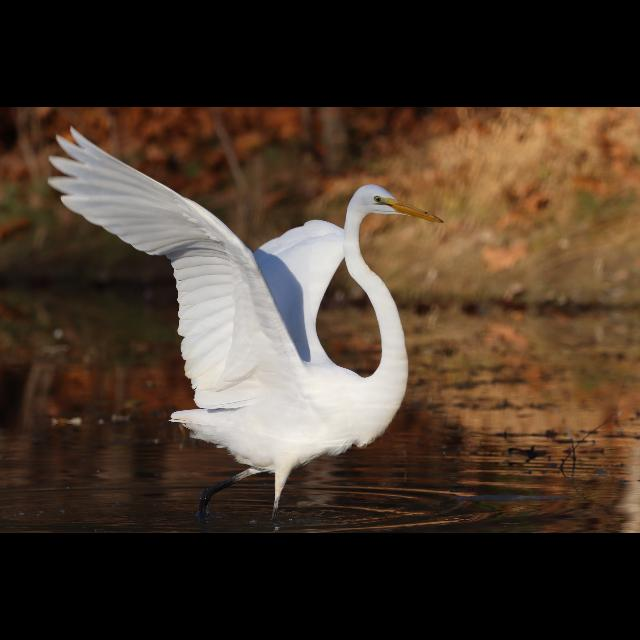egret: (49, 125, 460, 492)
